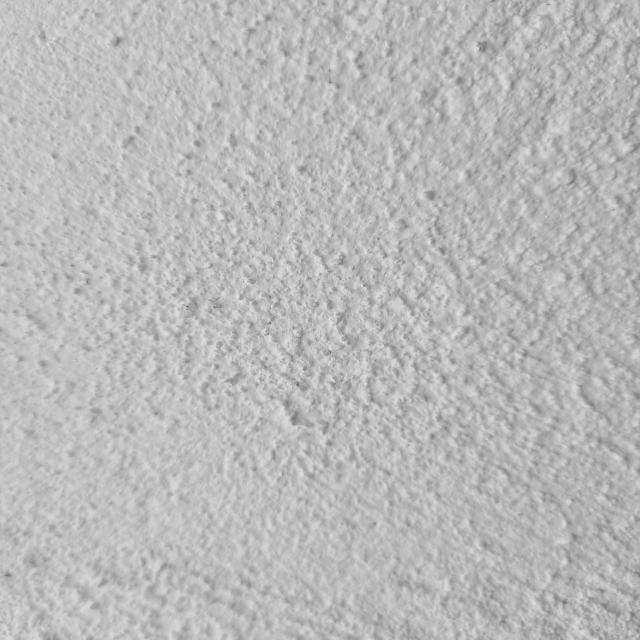rough and patchy surface: (2, 3, 632, 638)
